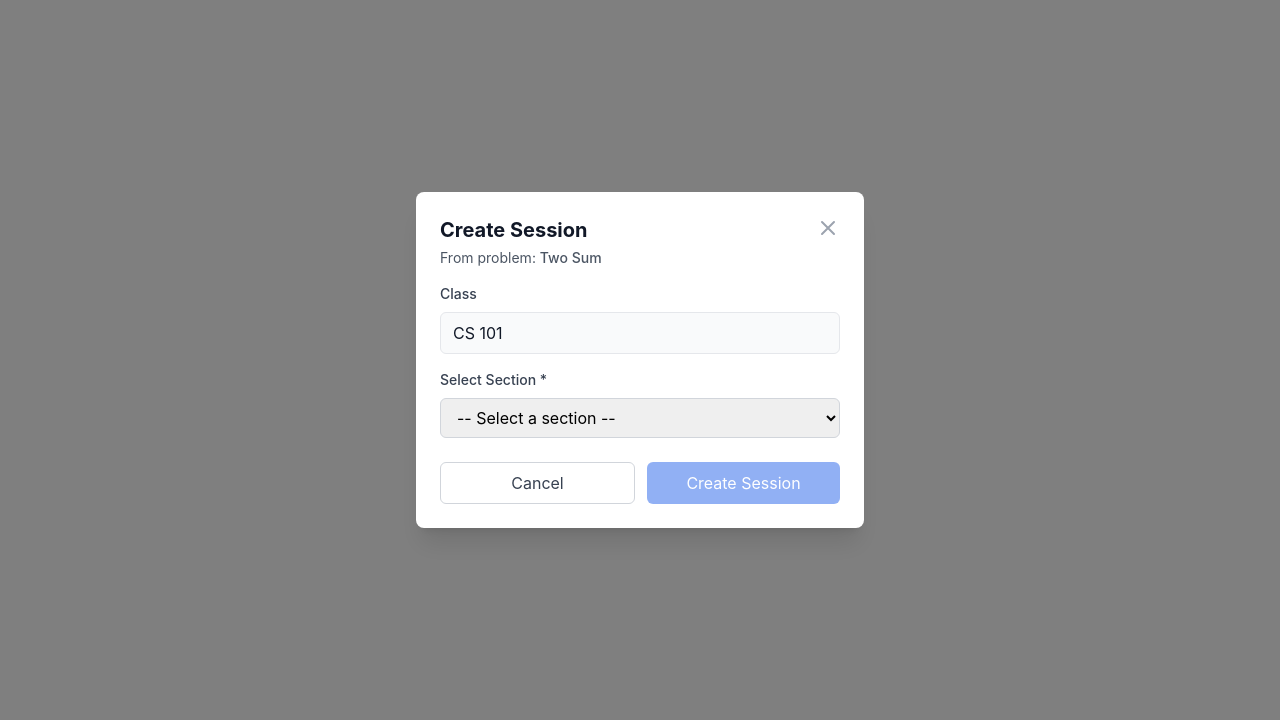
Scenario: CreateSessionFromProblemModal › publish UX › shows "Already published" note when problem is already in the section
Select "Section A" in the dropdown at (640, 418), box [440,398,840,438]
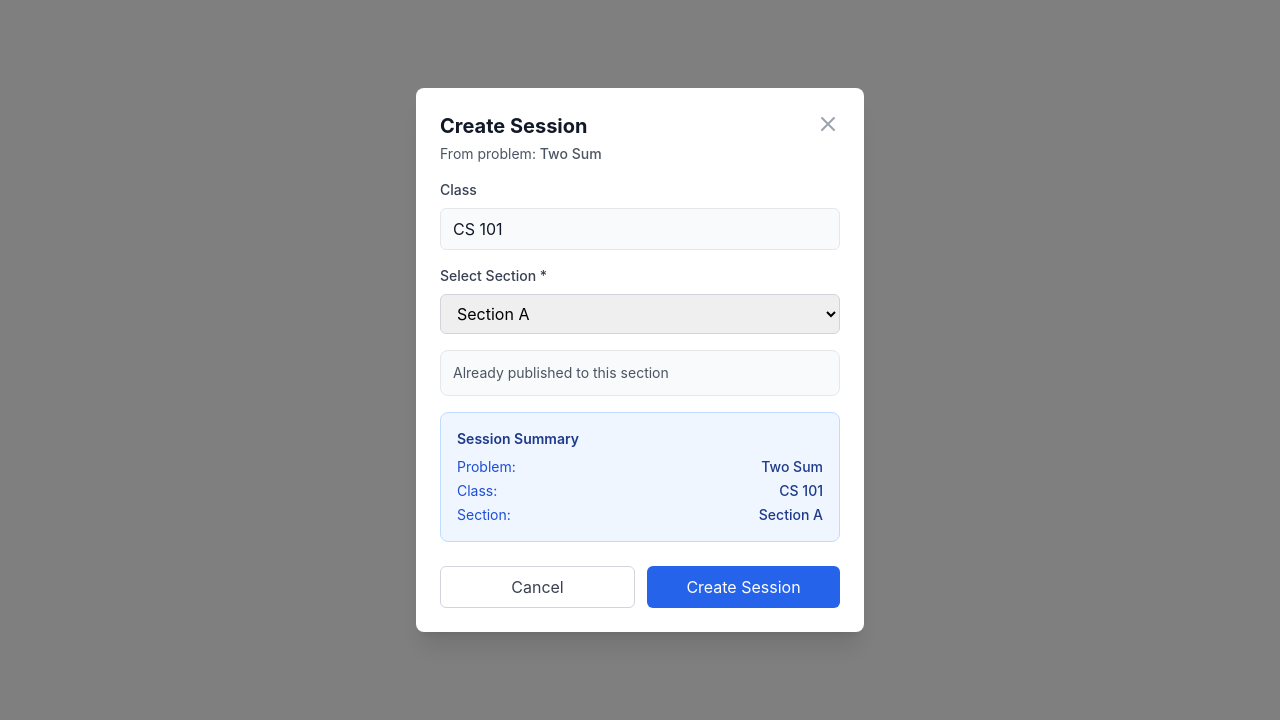
Expected: the text "Already published to this section" is shown, [440,350,840,396]
